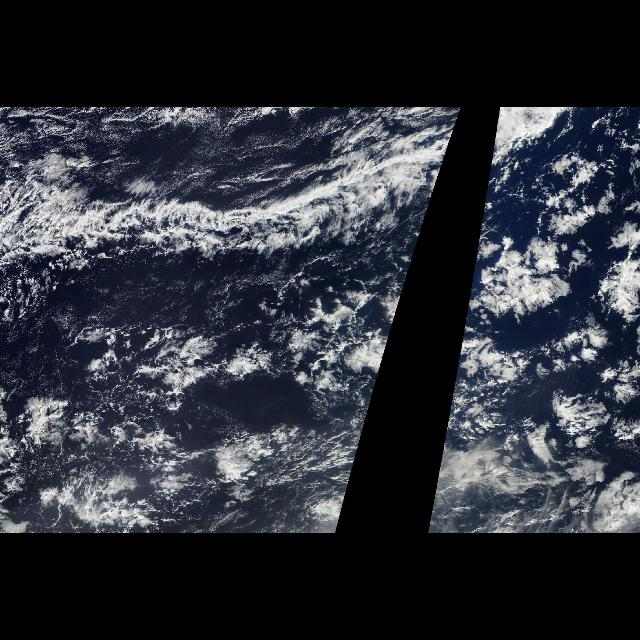Fish: (1, 133, 449, 299), (471, 232, 621, 382)
Flower: (458, 118, 638, 530)
Gravel: (94, 282, 366, 366)
